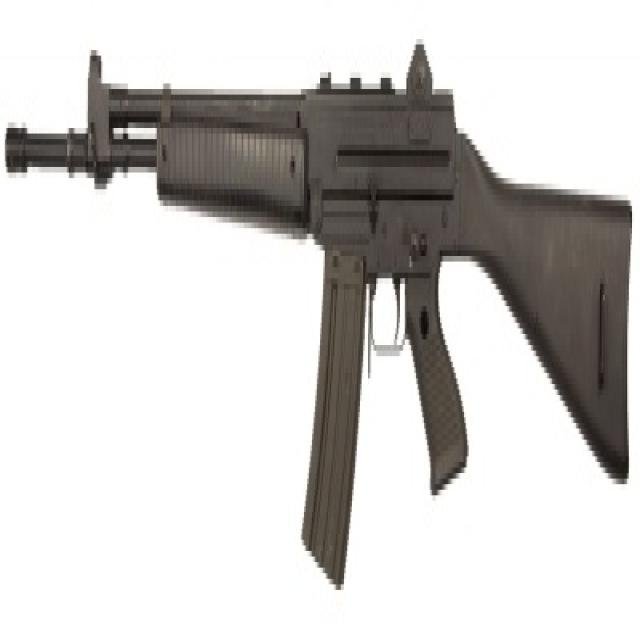rifle: (6, 37, 637, 602)
